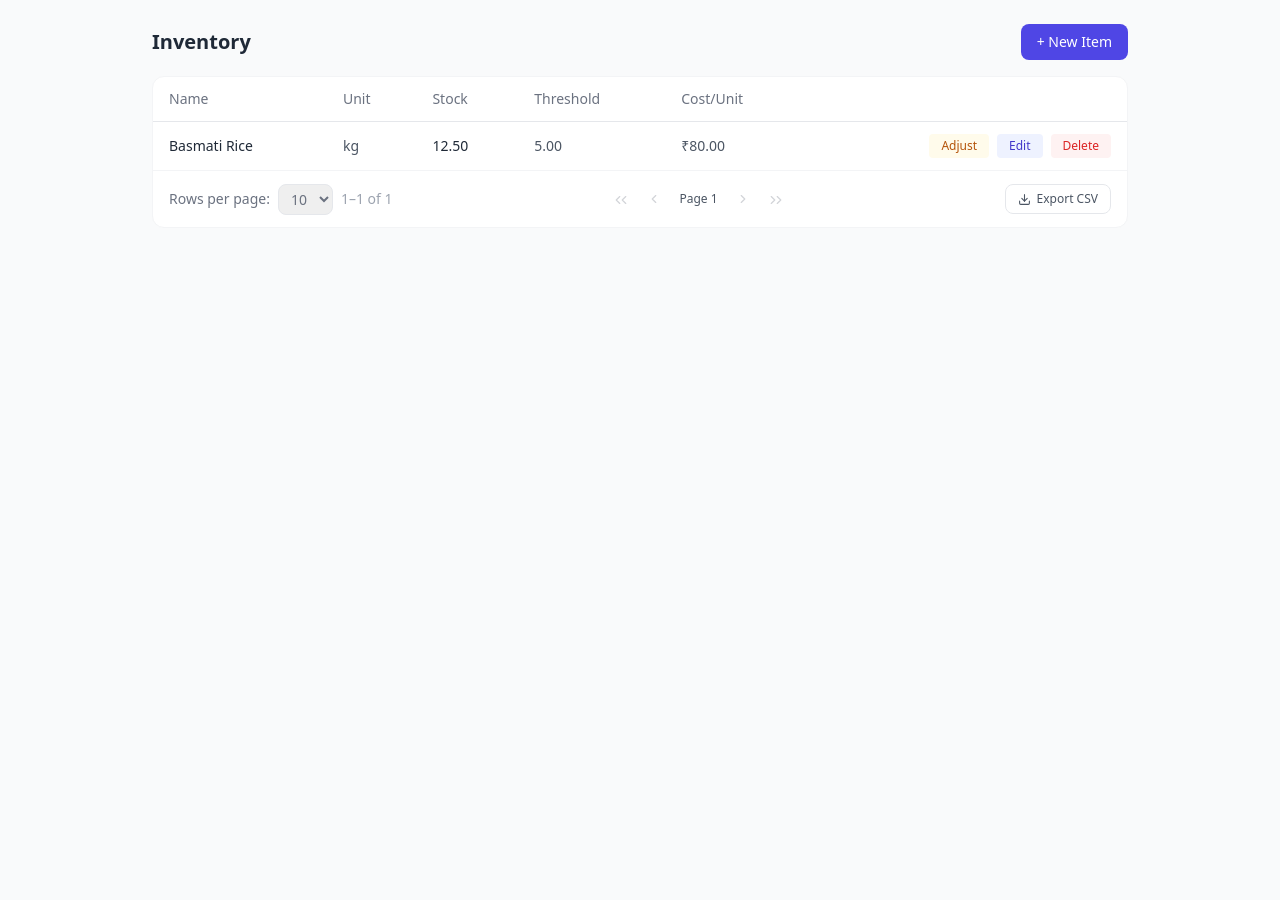
InventoryList › opens Adjust Stock modal
The image size is (1280, 900).
Step 1. Click the button with aria-label "adjust basmati rice" → (959, 146), box [929,134,989,158]
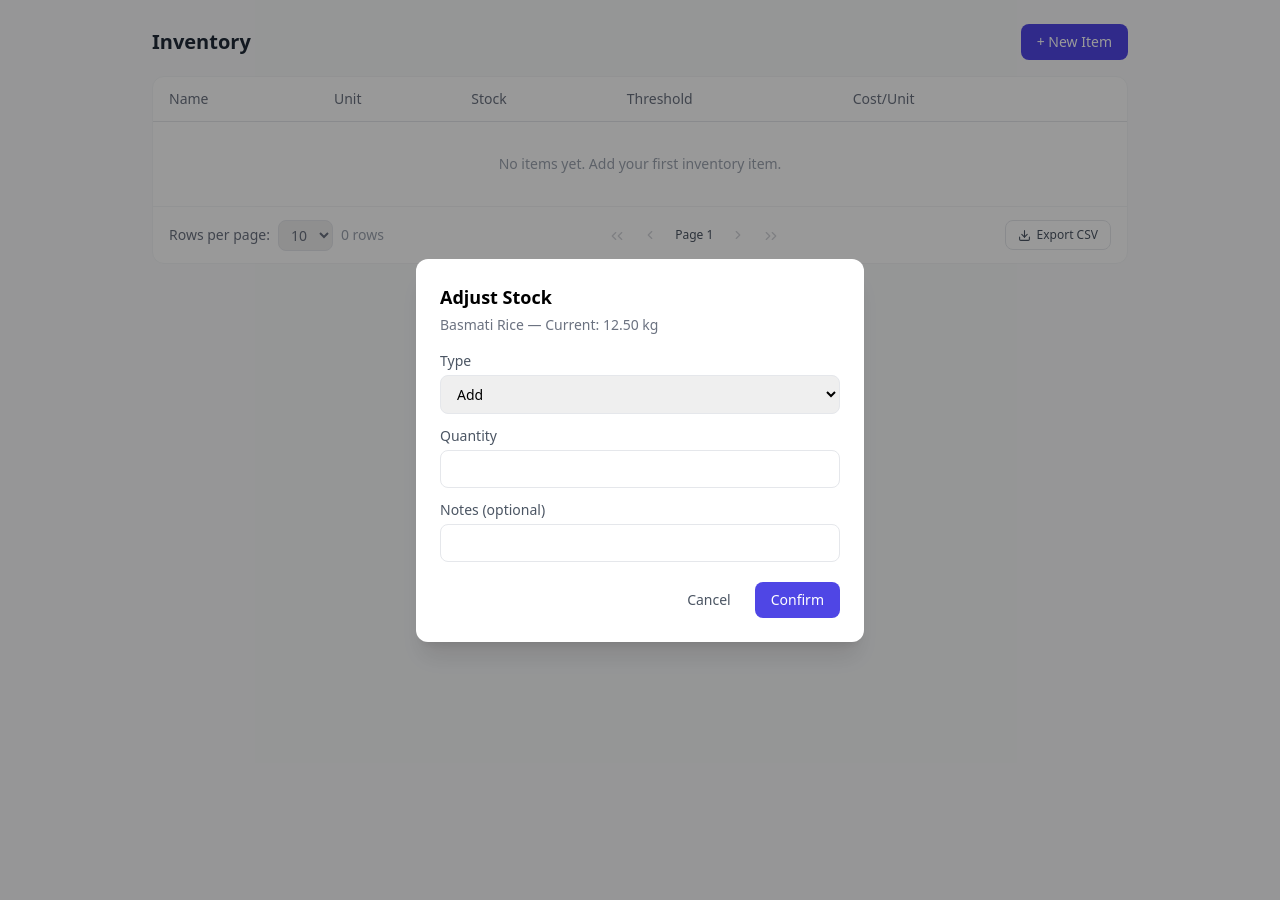
Expected: the heading "Adjust Stock" is shown, [440,284,552,308]
